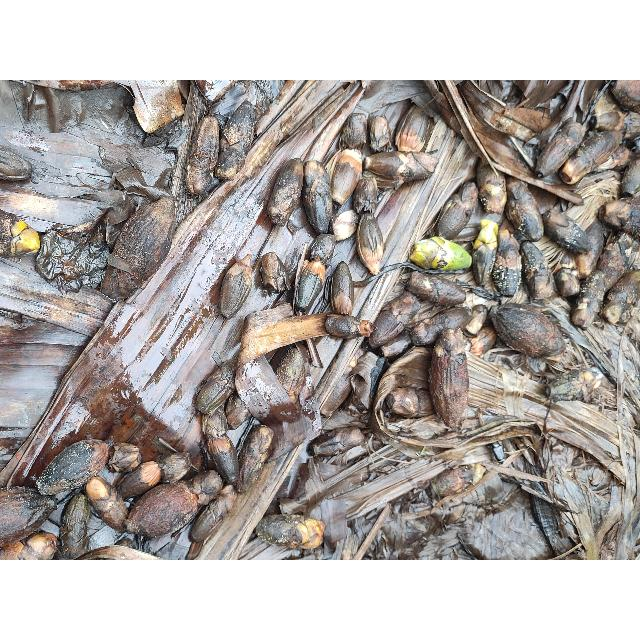damaged: (487, 304, 569, 360), (36, 438, 112, 496), (534, 120, 584, 178), (186, 114, 220, 196), (190, 484, 238, 542), (366, 150, 434, 190), (504, 178, 544, 244), (85, 475, 129, 533), (268, 158, 302, 230), (540, 208, 592, 255), (196, 356, 238, 414), (238, 423, 272, 493), (544, 366, 606, 404), (438, 183, 478, 239), (519, 238, 553, 302), (219, 255, 253, 319), (58, 492, 90, 560), (326, 149, 362, 207), (600, 268, 638, 322), (571, 220, 603, 280), (493, 230, 522, 296), (430, 464, 486, 498), (206, 436, 240, 492), (592, 236, 626, 292), (412, 272, 464, 308), (275, 344, 307, 402), (598, 192, 638, 238), (220, 100, 256, 150), (116, 459, 162, 498), (356, 212, 384, 276), (414, 308, 461, 346), (570, 272, 604, 324), (477, 157, 507, 213), (295, 258, 325, 314), (304, 176, 332, 232), (397, 106, 431, 152), (314, 427, 362, 459), (258, 250, 288, 296), (331, 262, 354, 318), (338, 113, 368, 155), (215, 146, 245, 182), (377, 330, 413, 360), (352, 177, 378, 217), (327, 314, 367, 340), (305, 233, 333, 270), (552, 264, 582, 298), (385, 291, 419, 321), (467, 324, 498, 356), (368, 114, 392, 154), (332, 208, 358, 242)
